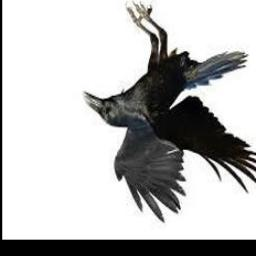Crow: (84, 4, 256, 222)
